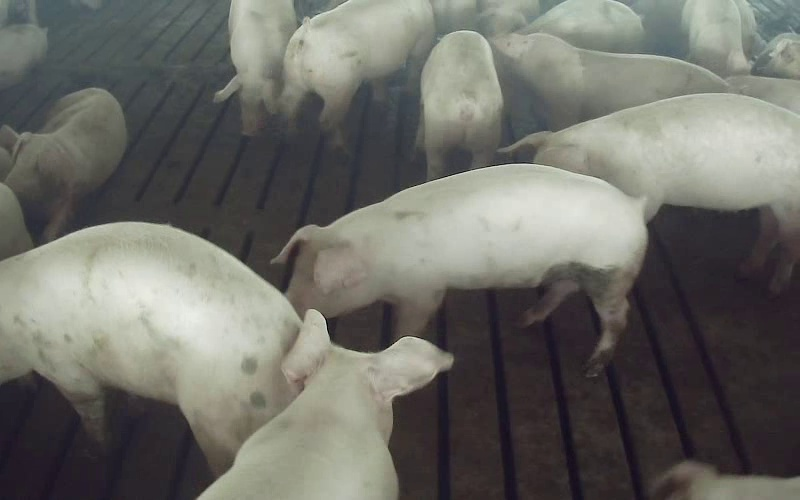pig: (274, 166, 646, 375), (505, 94, 799, 293), (199, 310, 452, 499), (491, 33, 727, 130), (4, 88, 126, 241), (419, 31, 502, 179)
